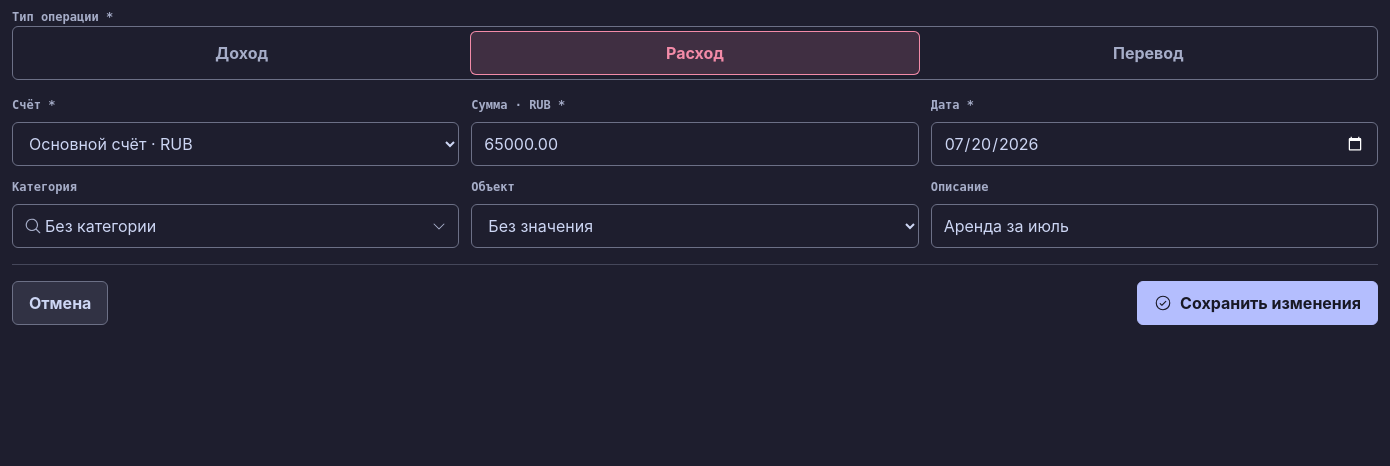
it: manual operation editing › keeps the stale draft on 409 until the user reloads the snapshot
Replace the text in the field labelled "Описание" with "Мой конфликтующий draft": point(1154, 226) [931, 204, 1378, 248]
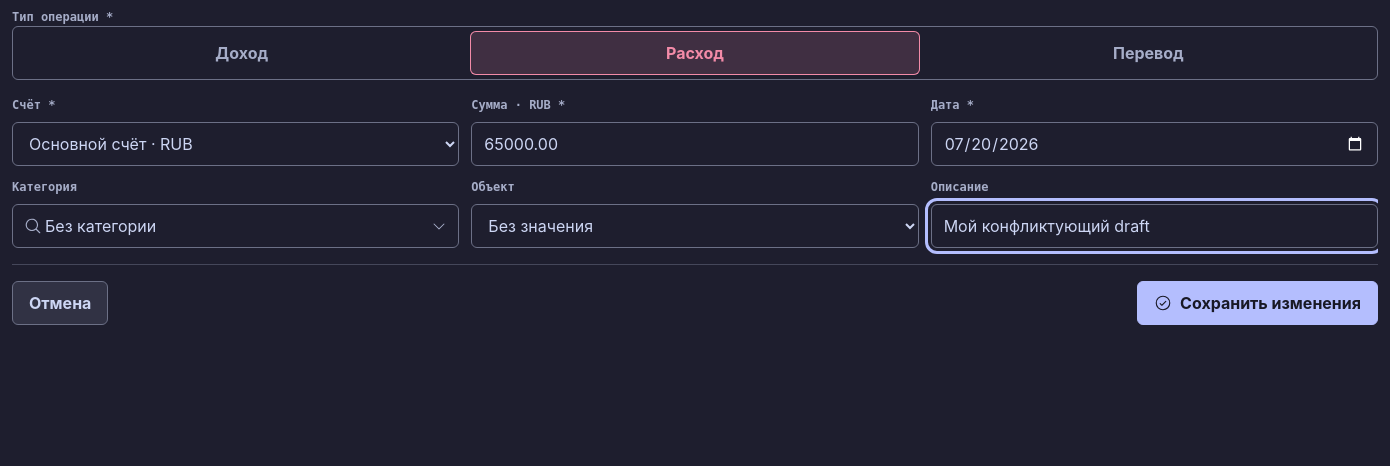
Click the button "Сохранить изменения": point(1258, 303) [1137, 281, 1378, 325]
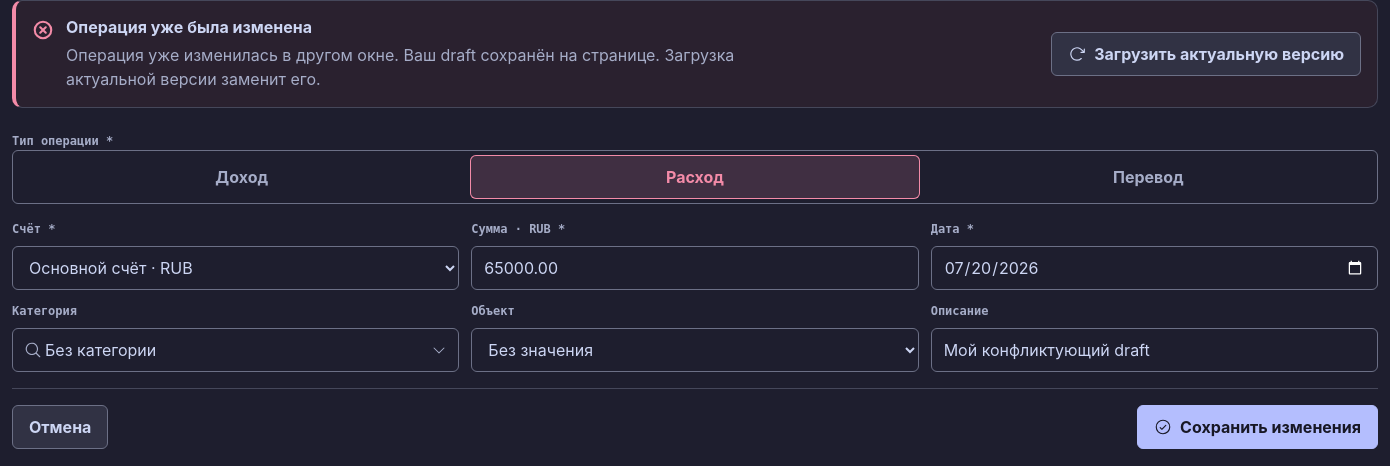
Expected: the message shows "Операция уже была изменена", [66, 17, 312, 37]
Expected: the message shows "Операция уже изменилась в другом окне.", [66, 45, 399, 65]
Click the button "Загрузить актуальную версию": point(1206, 54) [1051, 32, 1361, 76]
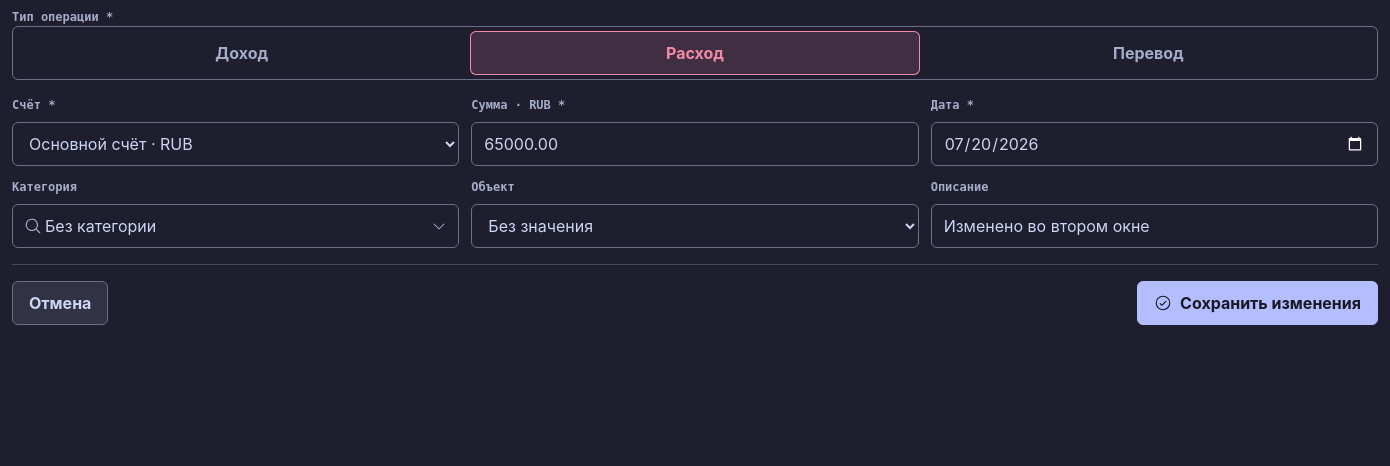
Expected: the field labelled "Описание" holds "Изменено во втором окне", [931, 204, 1378, 248]
